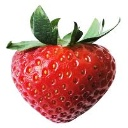strawberry: (8, 23, 119, 123)
